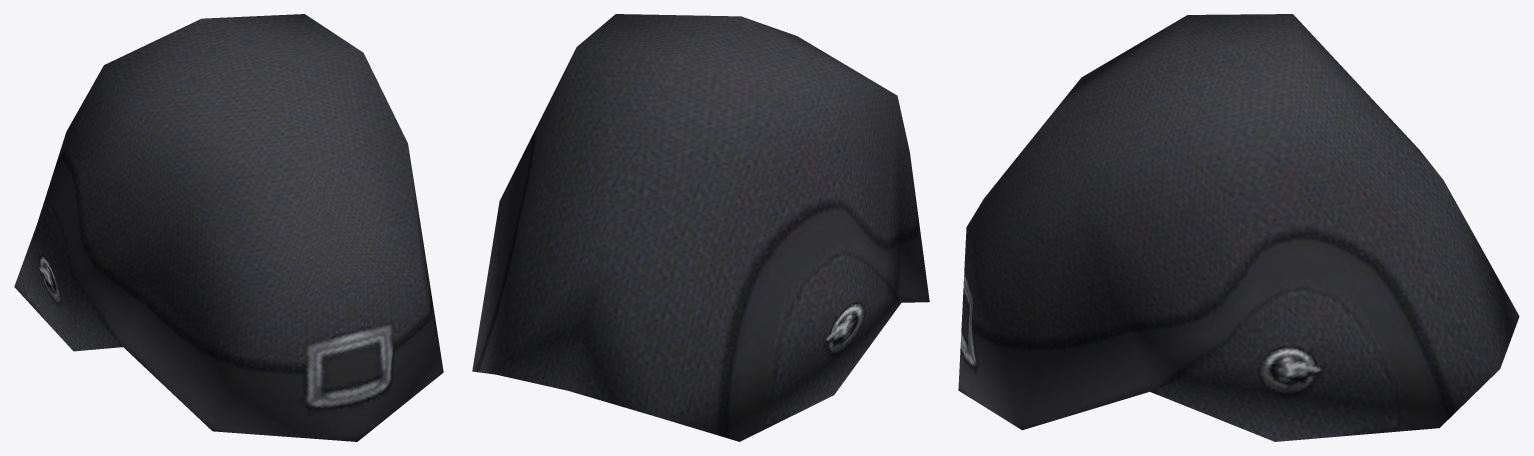
File: Helmet4__EC.glb
The picture shows the model from 3 angles, left to right: view 1: azimuth 30°, elevation 25°; view 2: azimuth 150°, elevation 25°; view 3: azimuth 270°, elevation 25°; orthographic projection. The views are drawn at different scales.
Visible parts, largest first — view 1: Helmet4; view 2: Helmet4; view 3: Helmet4.
Part boxes in pixels (<box>): Helmet4: <box>14,14,443,441</box>; Helmet4: <box>472,14,929,441</box>; Helmet4: <box>958,14,1519,441</box>.
Bounding box in the file's own units: 12.19 × 10.84 × 16.01.
Materials: 1 (1 with a texture image).
